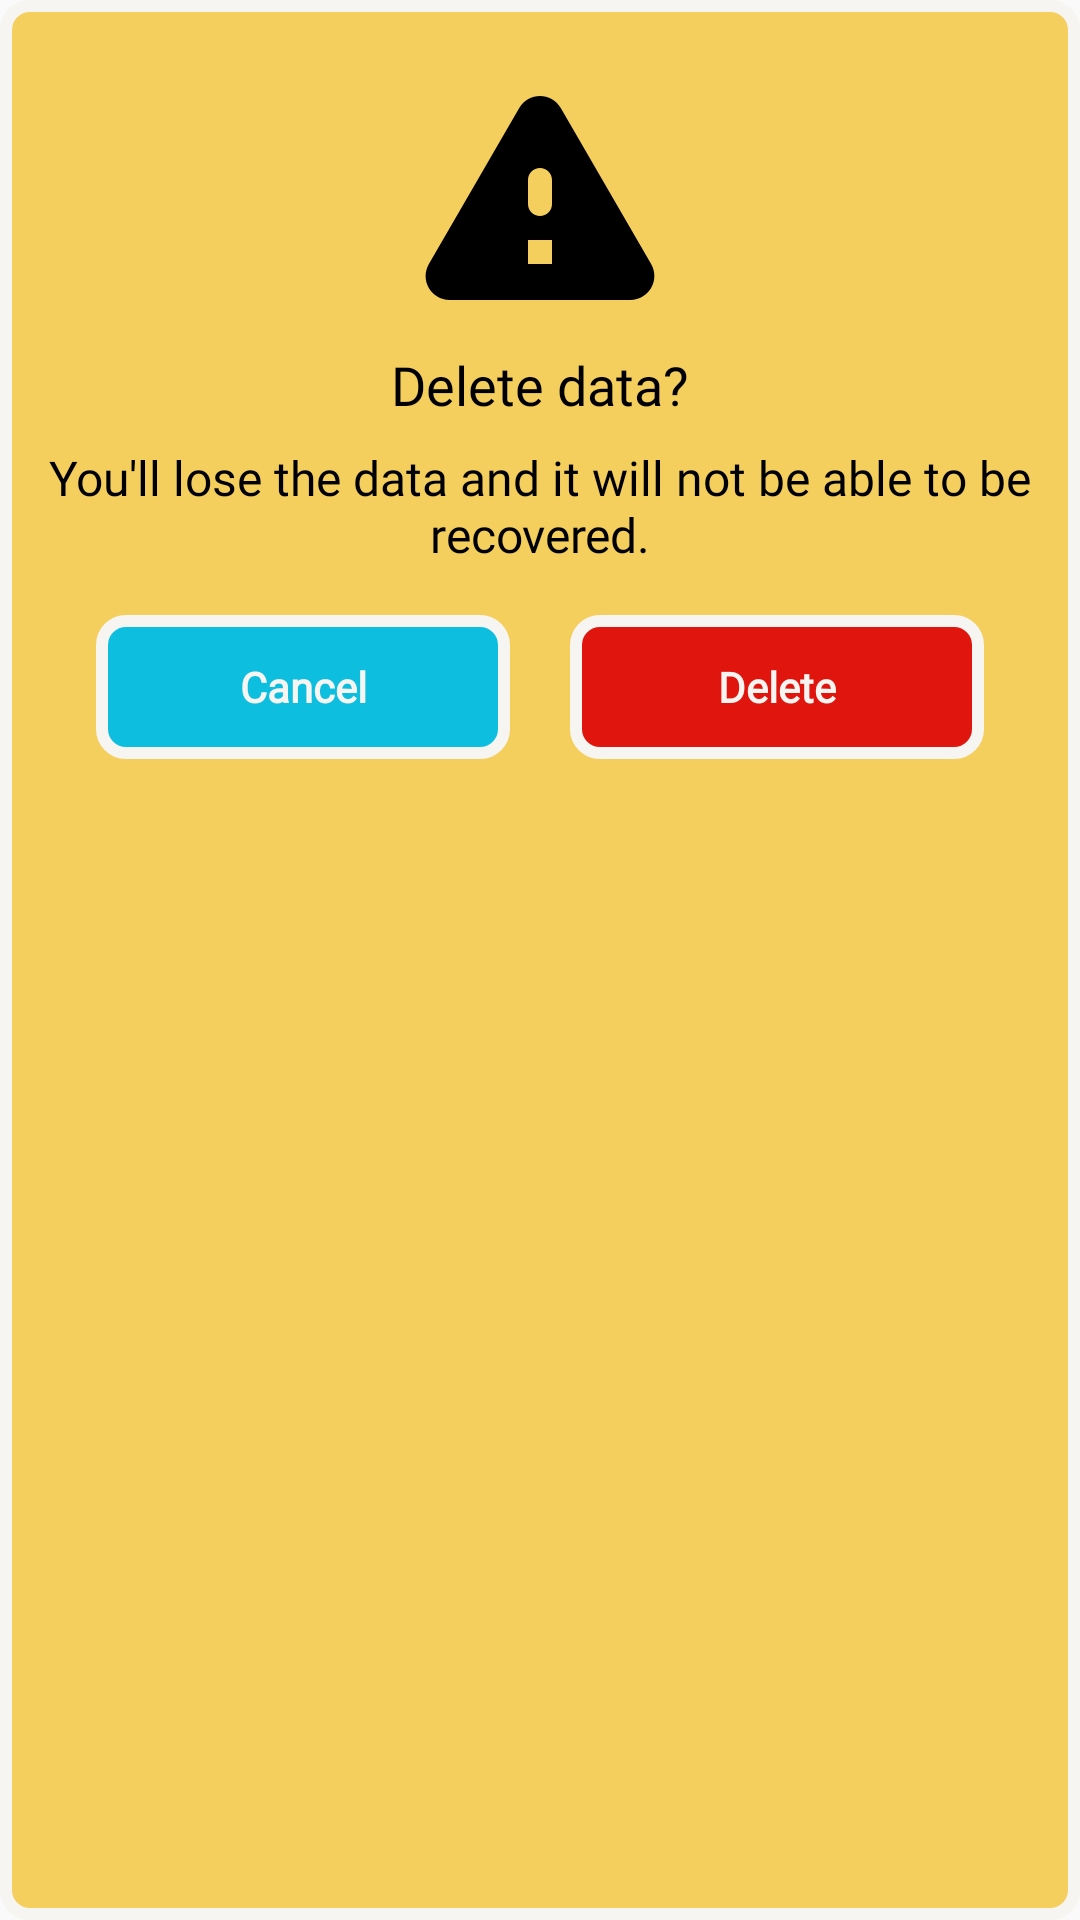

Screen size 1080×1920. Icon name, then its box in pixels as bbox(x1, y1, x2, y2):
warning: bbox(425, 96, 655, 300)
